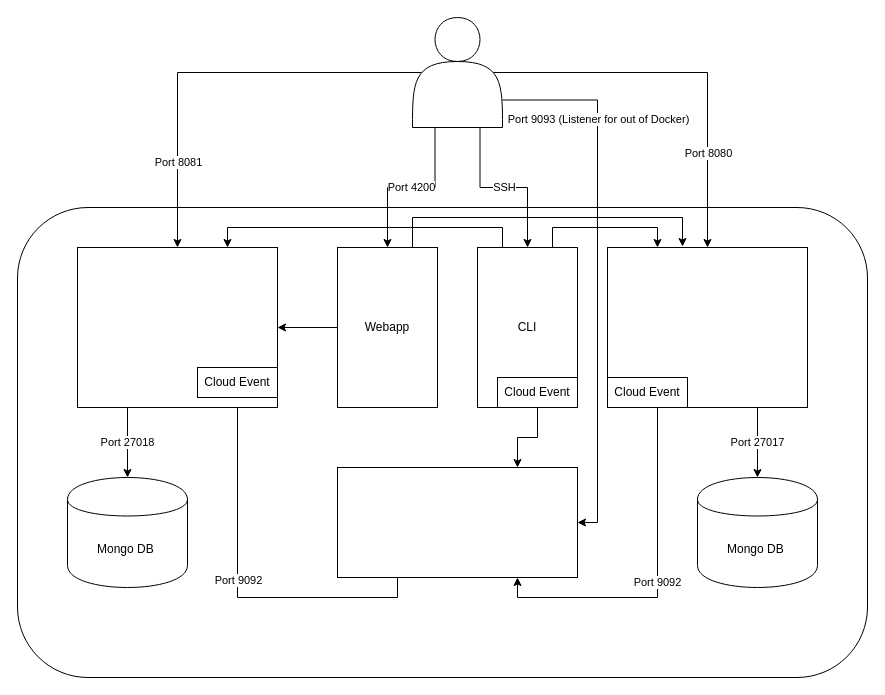
The diagram is 885 pixels wide and 695 high, and some of its shapes have lost their labels. Here are the shapes that lost their labels. From the top down, the box of each, then its label:
(76, 246, 278, 408): Order Service
(606, 246, 808, 408): Person / Contact Service
(336, 466, 578, 578): Kafka / Zookeeper
